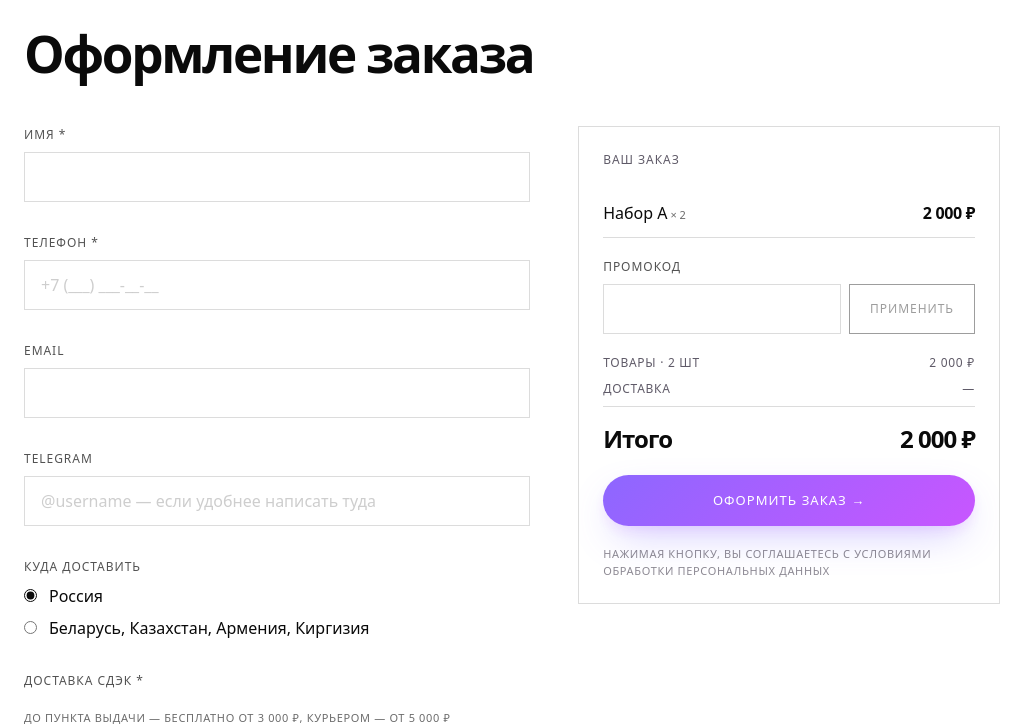
Test case: /checkout page › доставка в Беларусь, Казахстан, Армению, Киргизию › возврат на «Россия» снова показывает российский блок СДЭК
Click the radio button labelled "Беларусь, Казахстан, Армения, Киргизия" at {"x": 30, "y": 628}, box [24,621,37,634]
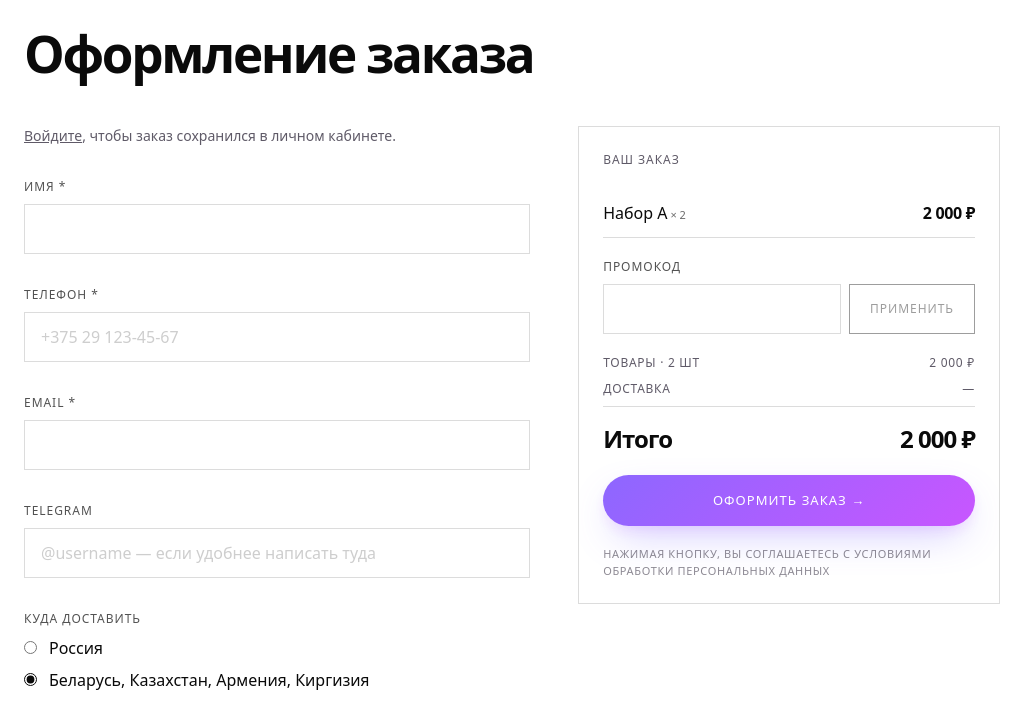
Click the radio button labelled "Россия" at {"x": 30, "y": 648}, box [24,641,37,654]
(page scrolled)
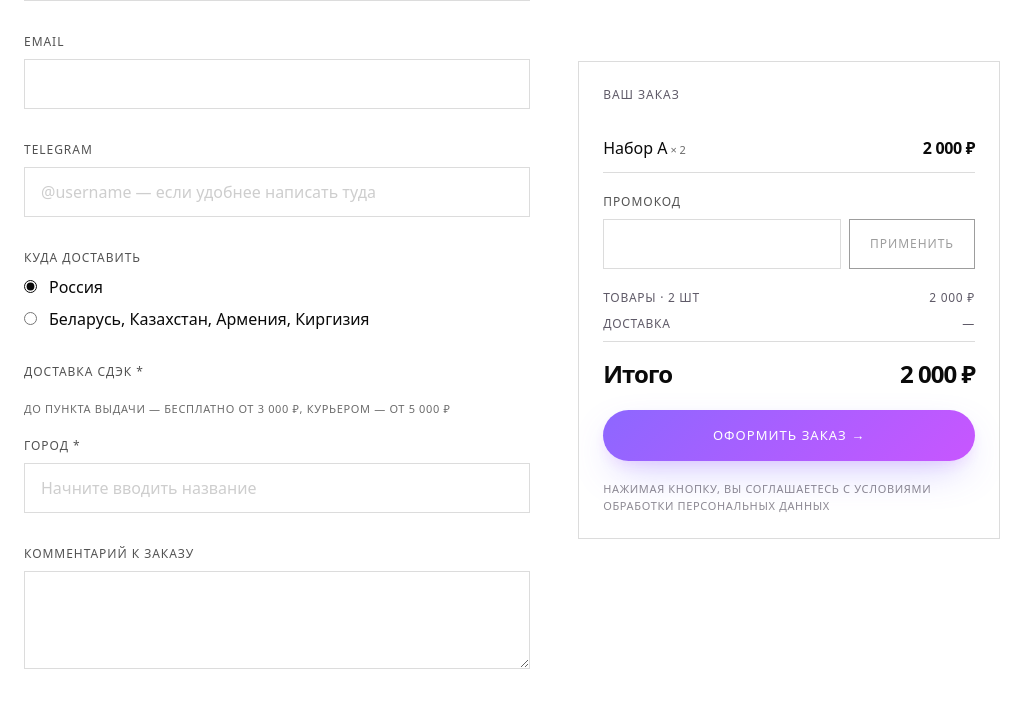
Expected: the dropdown labelled "Город *" is shown, [24,463,530,513]
